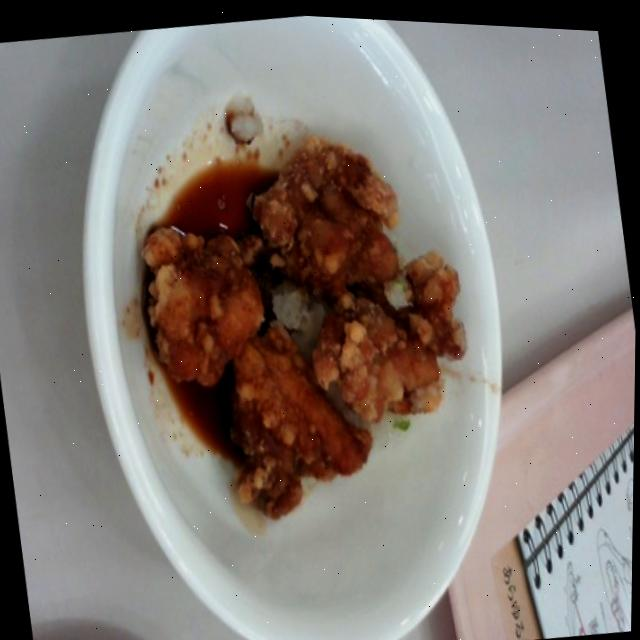鸡肉料理 含炸鸡: (93, 4, 510, 640)
